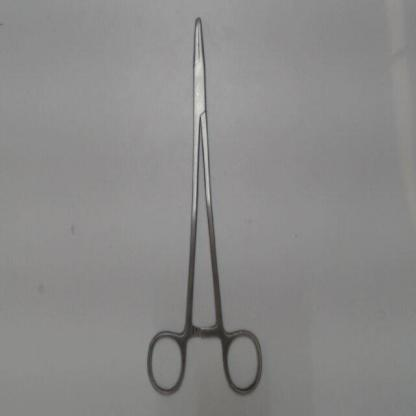8 Mayo Needle Holder: (140, 11, 268, 400)
